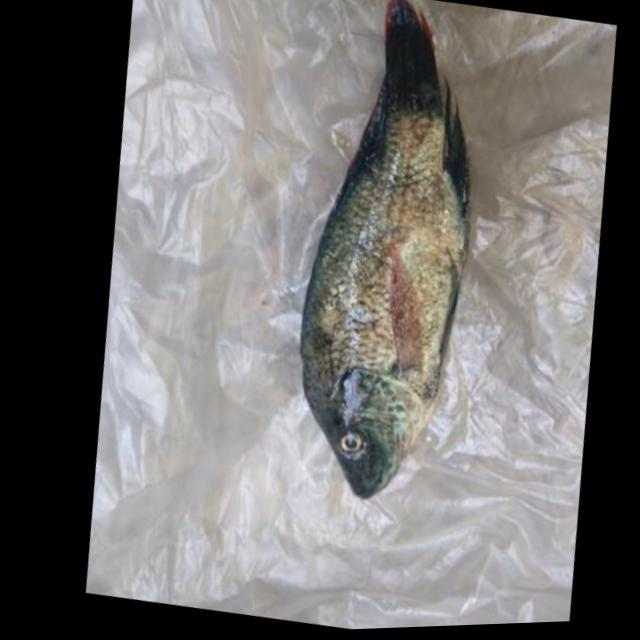Tilapia: (234, 0, 535, 519)
